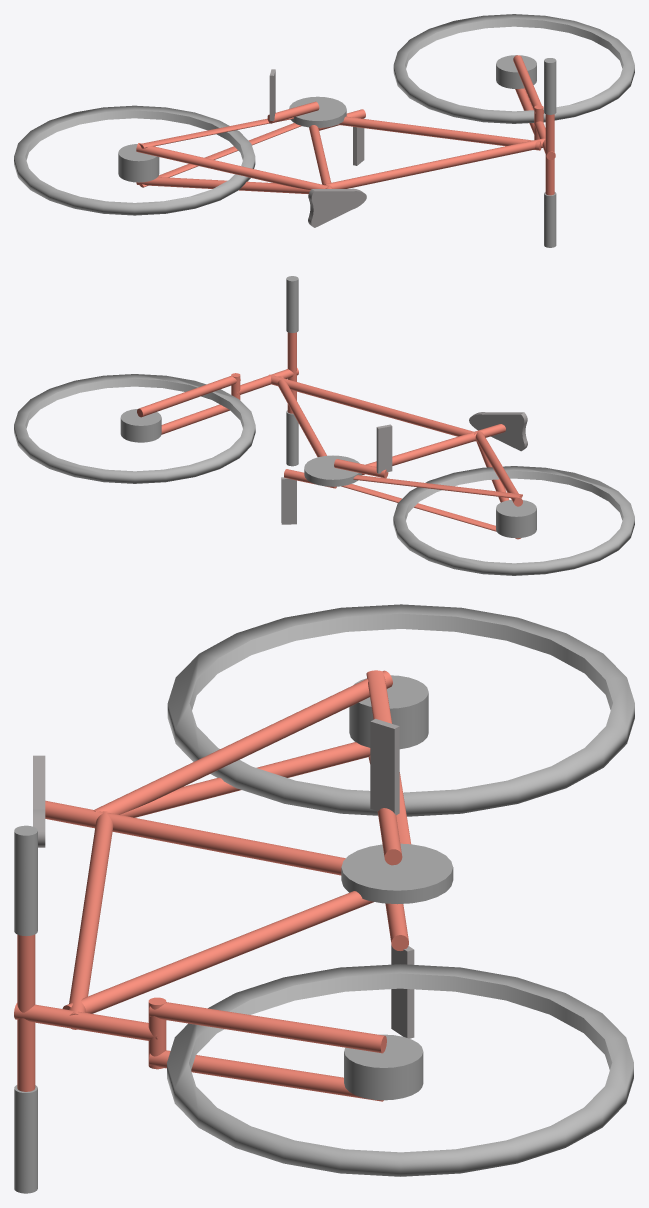
Rendered from bicycle.dae.
The picture shows the model from 3 angles, top to bottom: view 1: azimuth 30°, elevation 25°; view 2: azimuth 150°, elevation 25°; view 3: azimuth 270°, elevation 25°; orthographic projection. The views are drawn at different scales.
Visible parts, largest first — view 1: instance_0_003, instance_0_001, instance_0, instance_0_007, instance_0_011, instance_0_002, instance_0_025; view 2: instance_0_001, instance_0_003, instance_0_007, instance_0, instance_0_025, instance_0_011, instance_0_002; view 3: instance_0_003, instance_0_001, instance_0, instance_0_007, instance_0_002, instance_0_025, instance_0_011.
Boxes of the visible parts, x1=… form: instance_0_003: x1=136, y1=55, x2=555, y2=195; instance_0_001: x1=14, y1=14, x2=634, y2=215; instance_0: x1=25, y1=19, x2=623, y2=160; instance_0_007: x1=118, y1=55, x2=536, y2=182; instance_0_011: x1=308, y1=188, x2=366, y2=227; instance_0_002: x1=544, y1=58, x2=556, y2=247; instance_0_025: x1=269, y1=69, x2=364, y2=165; instance_0_001: x1=14, y1=374, x2=634, y2=575; instance_0_003: x1=137, y1=332, x2=522, y2=539; instance_0_007: x1=120, y1=409, x2=536, y2=538; instance_0: x1=25, y1=378, x2=623, y2=520; instance_0_025: x1=281, y1=424, x2=392, y2=524; instance_0_011: x1=469, y1=412, x2=527, y2=451; instance_0_002: x1=286, y1=276, x2=298, y2=466; instance_0_003: x1=14, y1=670, x2=410, y2=1101; instance_0_001: x1=167, y1=604, x2=634, y2=1176; instance_0: x1=189, y1=613, x2=612, y2=1070; instance_0_007: x1=341, y1=675, x2=453, y2=1100; instance_0_002: x1=14, y1=825, x2=37, y2=1193; instance_0_025: x1=370, y1=718, x2=414, y2=1038; instance_0_011: x1=33, y1=755, x2=45, y2=847.
Bounding box in the file's own units: 790 × 237 × 373.
